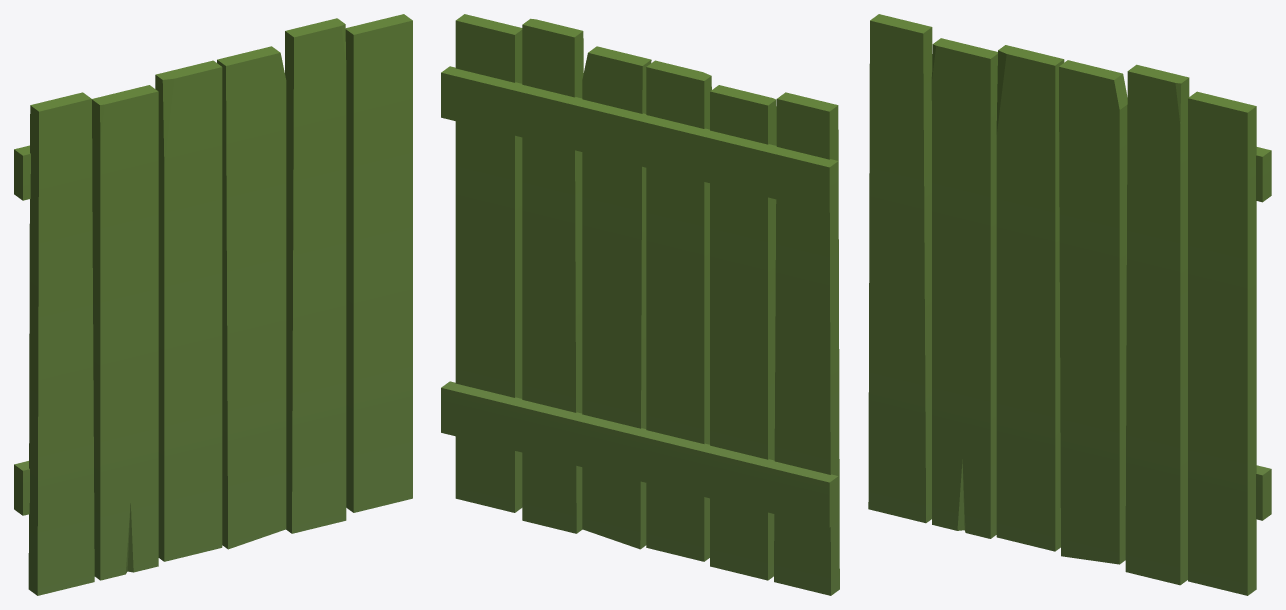
File: Fence_02.fbx
3 views of the same model, side by side, from view 1: azimuth 30°, elevation 25°; view 2: azimuth 150°, elevation 25°; view 3: azimuth 330°, elevation 25° (orthographic).
Visible parts, largest first — view 1: Fence_02; view 2: Fence_02; view 3: Fence_02.
Boxes of the visible parts, x1,y1,x2,y2 form: Fence_02: (14,14,412,595); Fence_02: (441,14,839,595); Fence_02: (868,14,1271,595).
Bounding box in the file's own units: 1.02 × 1.24 × 0.0766.
